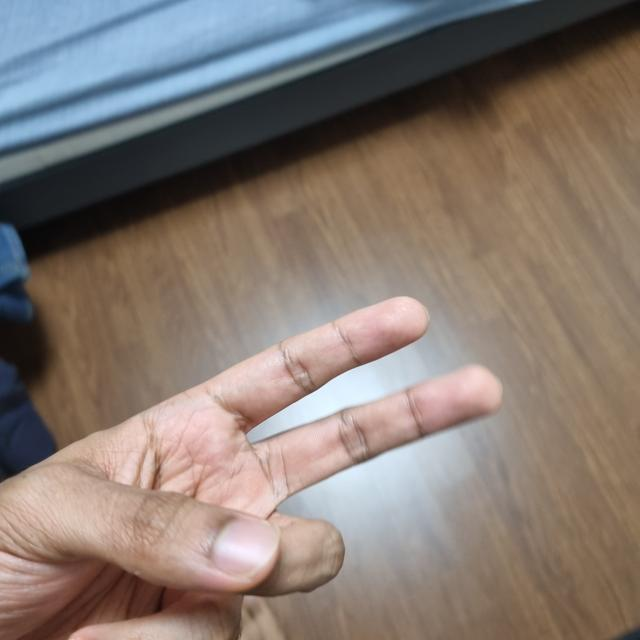Scissors: (3, 306, 490, 632)
